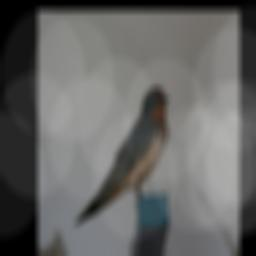Swallow: (73, 79, 172, 234)
